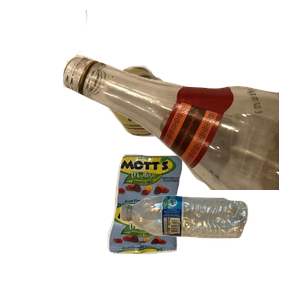glass: (60, 10, 300, 190)
metal: (105, 63, 300, 192)
plastic: (118, 193, 300, 300)
trash: (105, 152, 280, 300)
